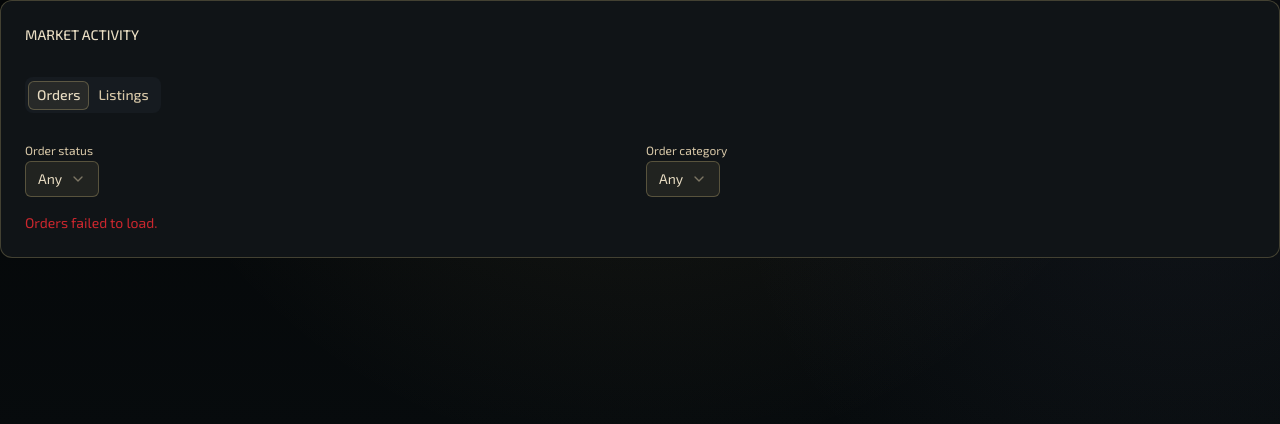
Test: collection market panel › orders_and_listings_errors_are_isolated_per_panel
The image size is (1280, 424).
Expected: the text "Orders failed to load." is shown, x1=25 y1=214 x2=158 y2=231
Step 1. Click the tab "Listings" → (124, 95), box x1=90 y1=80 x2=158 y2=110
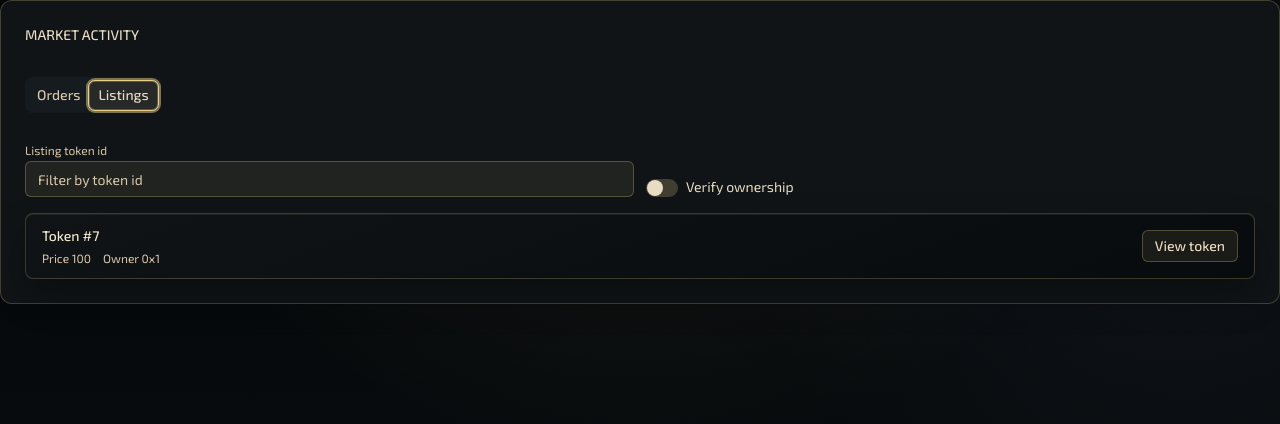
Result: the text "Orders failed to load" is gone
Result: the text "Token #7" is shown at x1=42 y1=227 x2=100 y2=244
